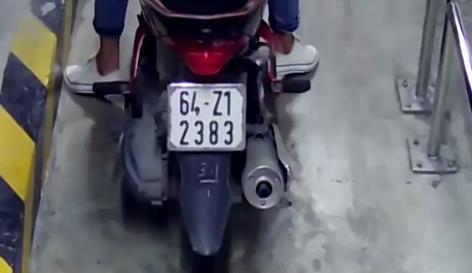lisence: (167, 81, 244, 151)
